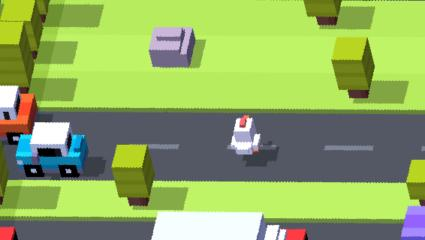hen: (228, 117, 262, 155)
obstacle: (33, 122, 89, 176), (153, 212, 261, 239), (331, 38, 371, 100), (114, 145, 155, 204), (0, 22, 34, 92), (0, 0, 42, 54), (0, 85, 34, 144), (148, 28, 195, 68), (304, 0, 344, 23), (408, 160, 425, 208), (404, 206, 425, 240), (264, 225, 308, 240), (0, 227, 16, 240)
